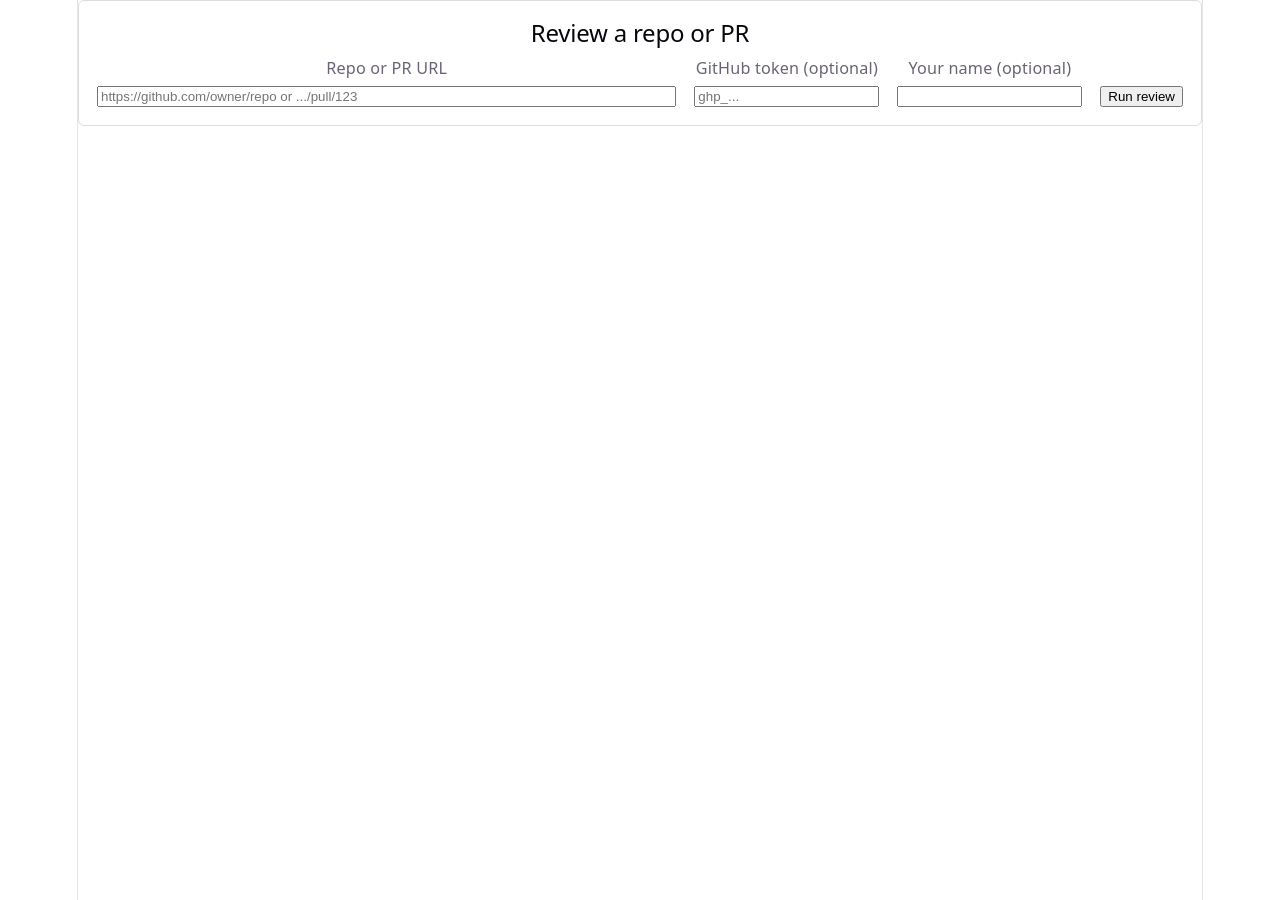
Test: ReviewSubmitForm › shows an error message when submission fails
Type "https://github.com/owner/repo" into the field labelled "Repo or PR URL" at (387, 96), box [97,86,676,107]
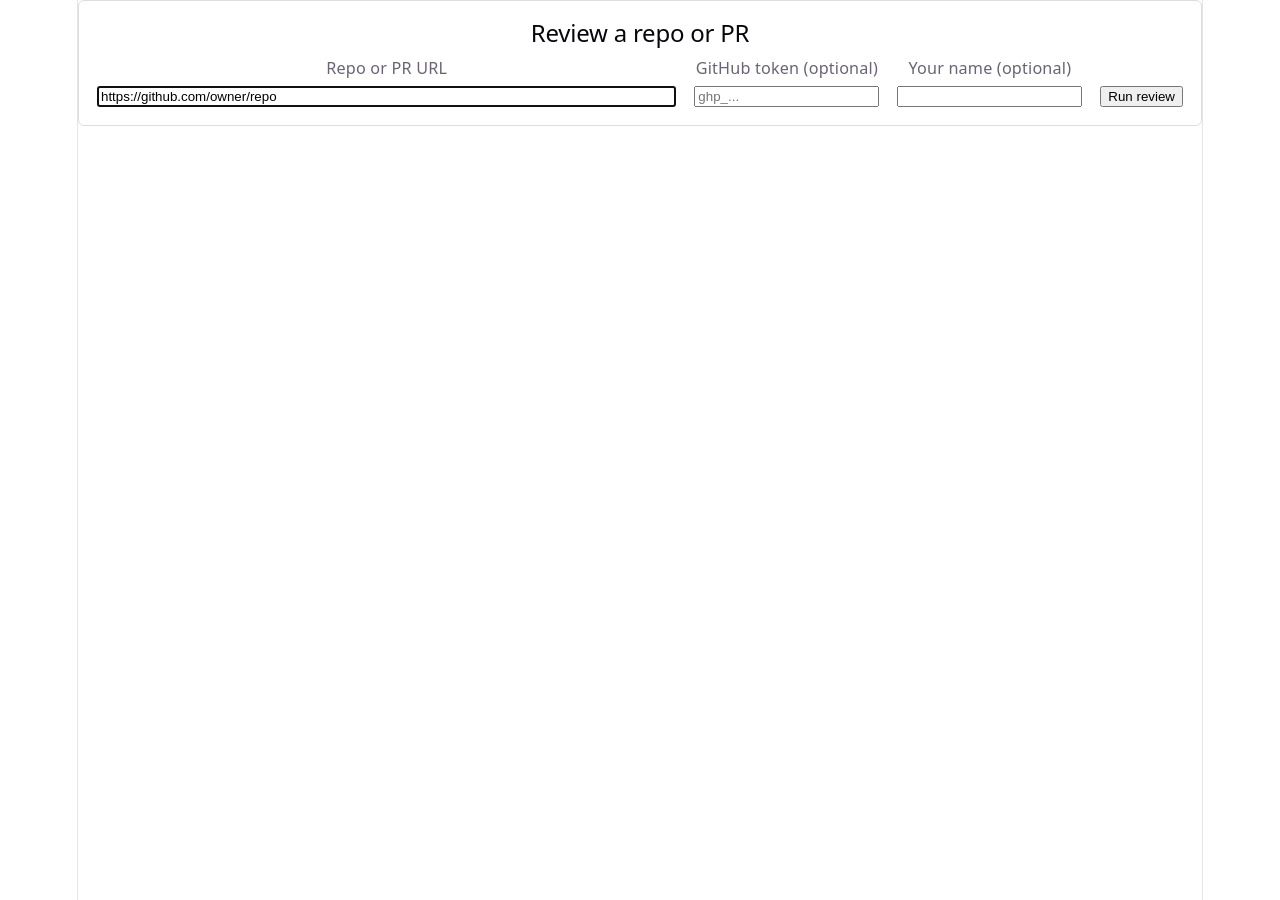
Click the button "Run review" at (1142, 96), box [1100,86,1183,107]
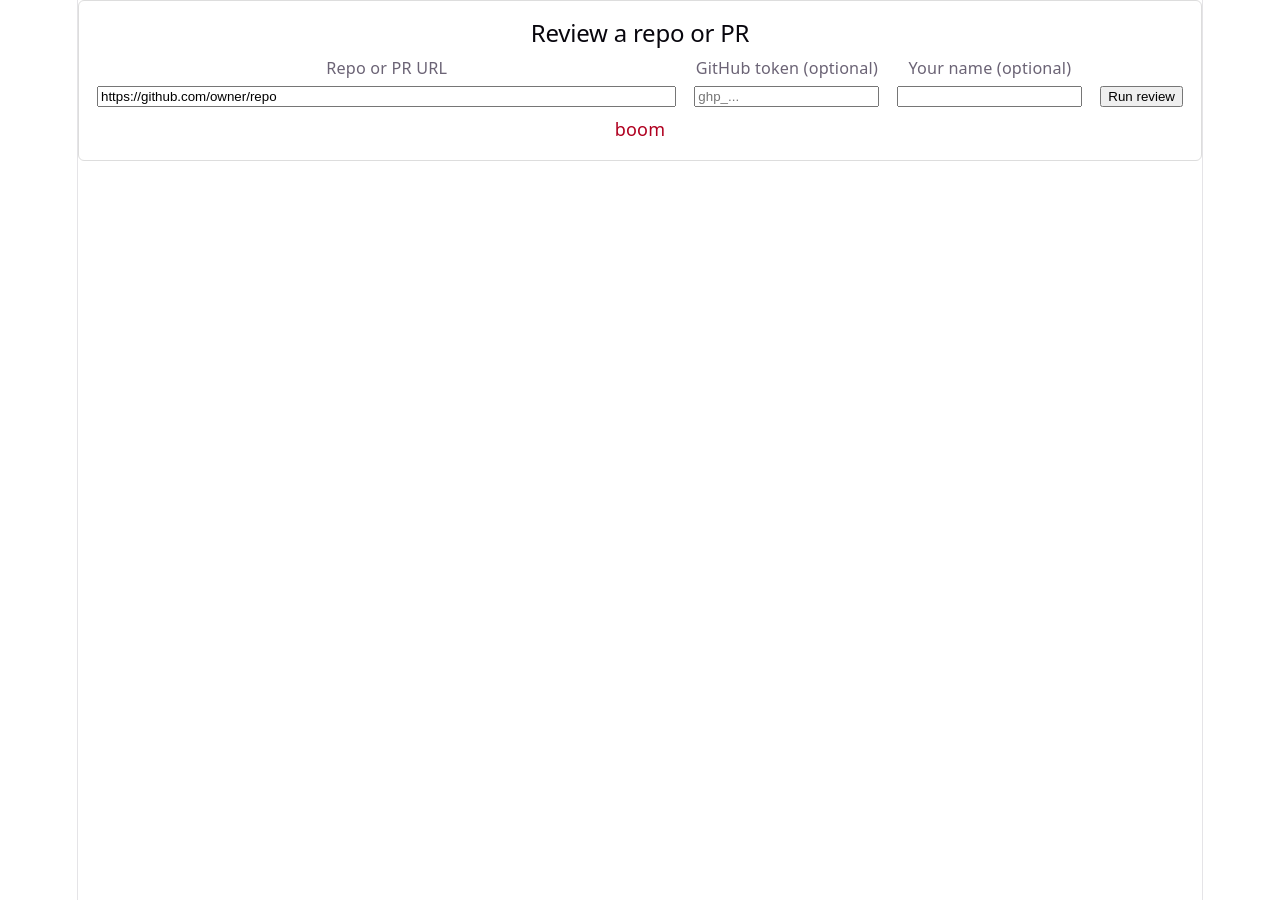
Now the text "boom" is shown, box [615,117,665,141]
